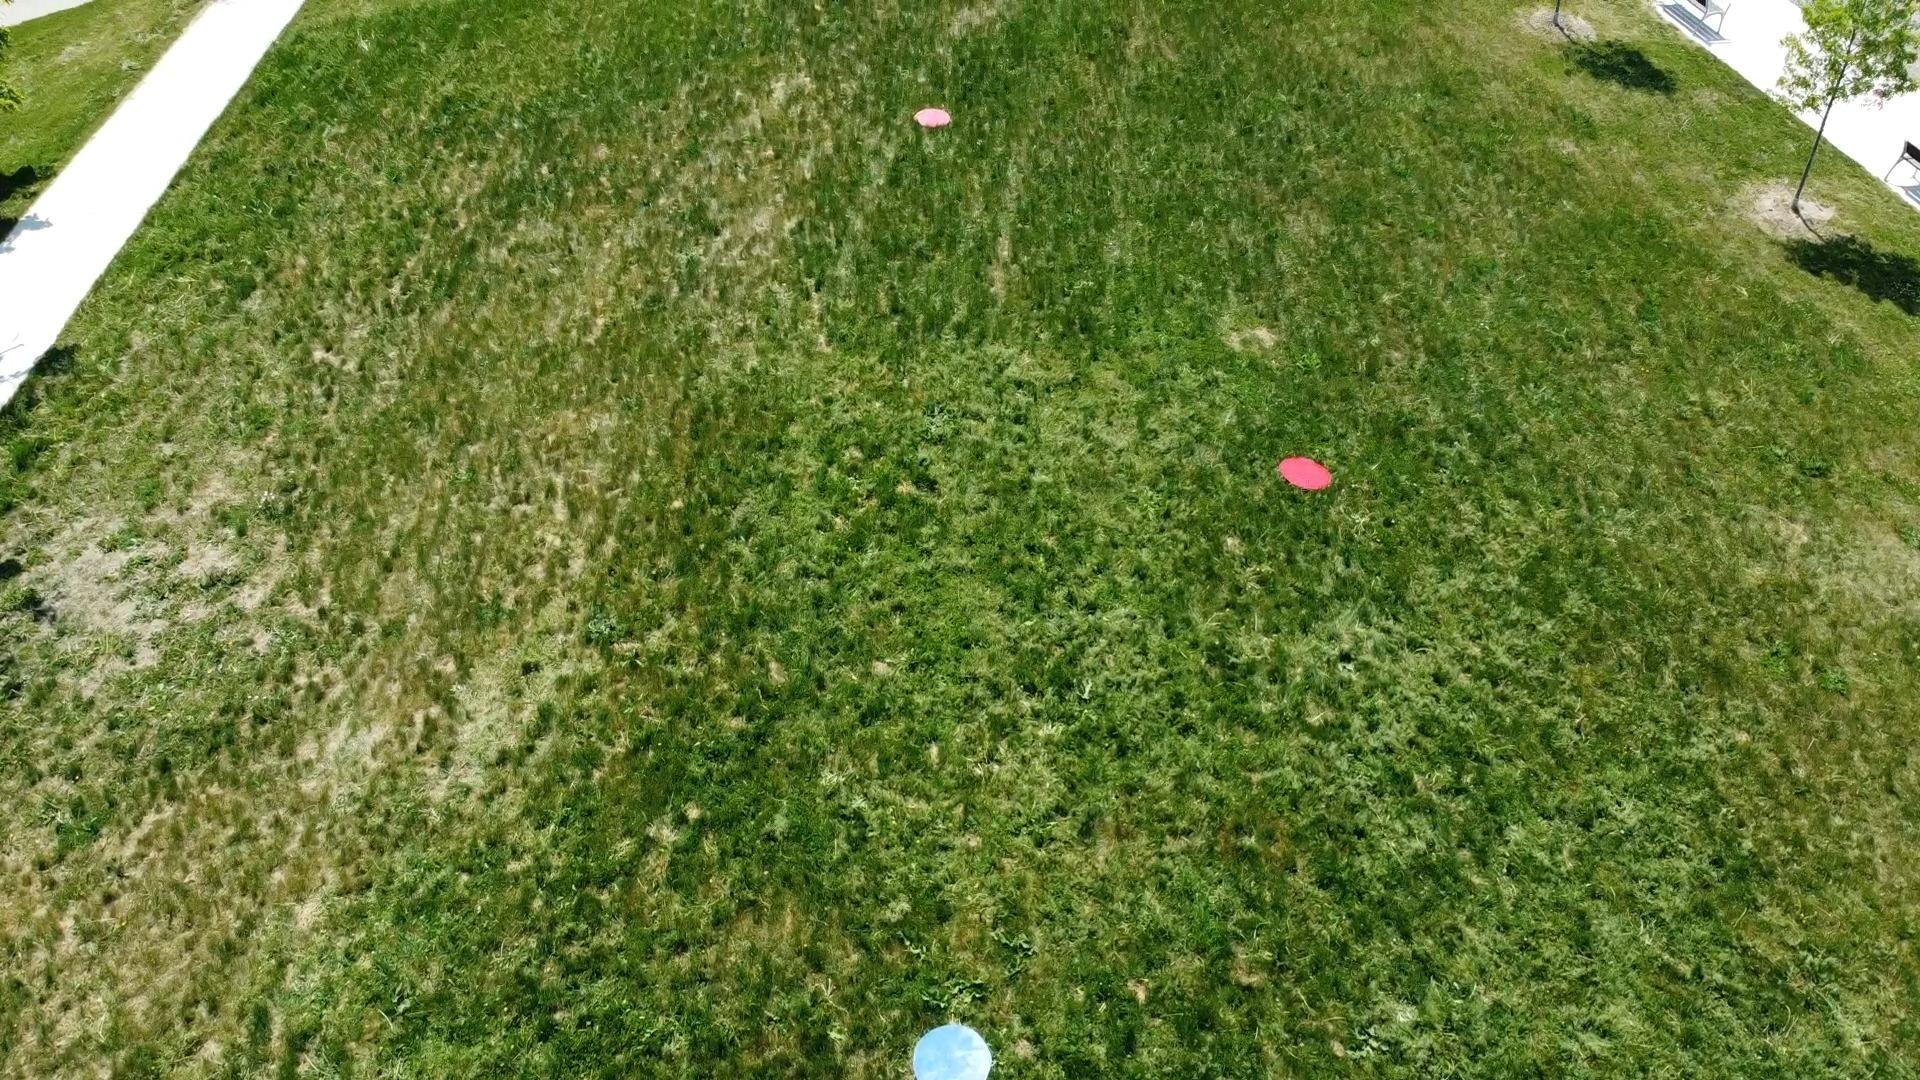Blue: (911, 1022, 996, 1080)
Red: (1273, 454, 1335, 492), (911, 107, 955, 131)
